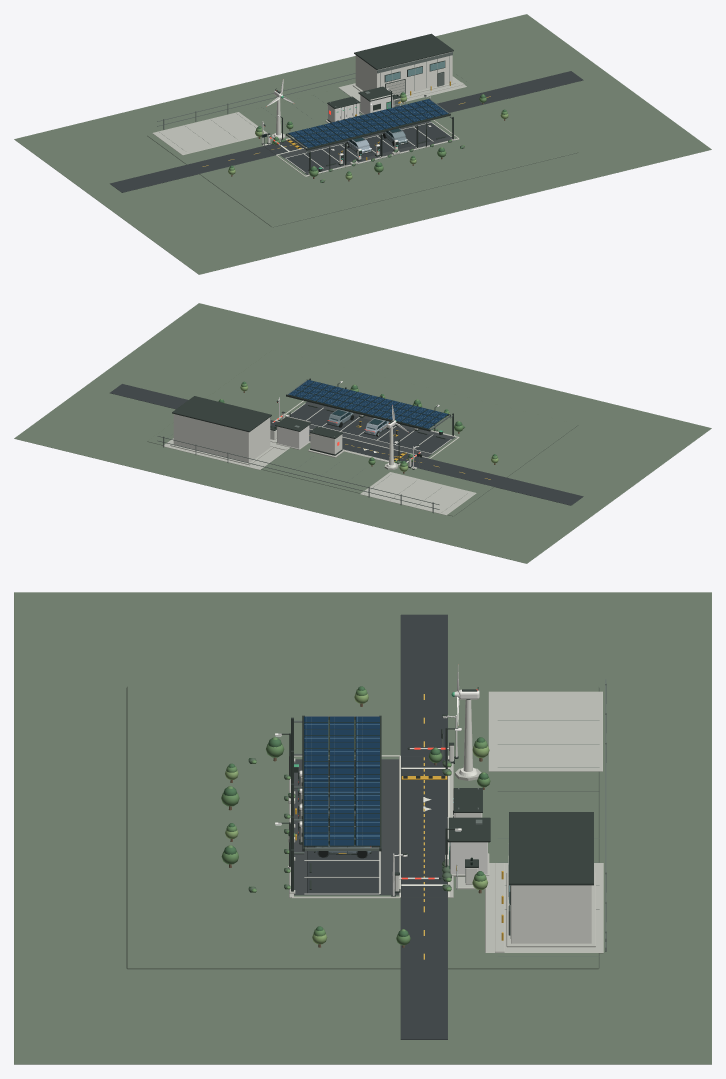
Rendered from blender-energy-campus.glb.
3 views of the same model, one above another, from view 1: azimuth 30°, elevation 25°; view 2: azimuth 150°, elevation 25°; view 3: azimuth 270°, elevation 25° (orthographic). The views are drawn at different scales.
Parts seen in each view (by area): view 1: Far lawn, Site lawn, West utility paving, West approach, Hall shell, Hall roof, East exit, Bay apron, Service yard paving; view 2: Far lawn, Site lawn, Hall shell, West utility paving, West approach, Hall roof, Bay apron, East exit, North road, Service yard paving, Building wall, Storage shell; view 3: Far lawn, Site lawn, West utility paving, East exit, West approach, Hall roof, North road, Hall shell, Bay apron, Service yard paving, Bay pad.006, Bay pad.007 (+6 smaller).
Part boxes in pixels (box(x1,y1,x2,y2)): Far lawn: box(14, 14, 711, 274); Site lawn: box(147, 61, 578, 227); West utility paving: box(152, 112, 267, 155); West approach: box(110, 146, 275, 192); Hall shell: box(355, 51, 452, 93); Hall roof: box(354, 33, 453, 69); East exit: box(437, 71, 583, 112); Bay apron: box(280, 121, 453, 175); Service yard paving: box(338, 76, 466, 103); Far lawn: box(14, 303, 711, 563); Site lawn: box(147, 350, 578, 516); Hall shell: box(173, 414, 270, 462); West utility paving: box(360, 472, 476, 515); West approach: box(417, 459, 583, 505); Hall roof: box(172, 396, 271, 432); Bay apron: box(288, 401, 454, 457); East exit: box(110, 384, 275, 424); North road: box(270, 421, 429, 467); Service yard paving: box(162, 438, 289, 469); Building wall: box(277, 425, 309, 448); Storage shell: box(310, 433, 342, 454); Far lawn: box(14, 592, 711, 1064); Site lawn: box(127, 686, 598, 968); West utility paving: box(488, 691, 602, 771); East exit: box(400, 898, 447, 1039); West approach: box(400, 614, 447, 756); Hall roof: box(509, 812, 593, 885); North road: box(401, 756, 447, 897); Hall shell: box(511, 885, 591, 943); Bay apron: box(294, 759, 398, 895); Service yard paving: box(485, 863, 603, 953); Bay pad.006: box(307, 861, 378, 876); Bay pad.007: box(307, 878, 378, 893).
Bounding box in the file's own units: 80 × 9.55 × 50.
